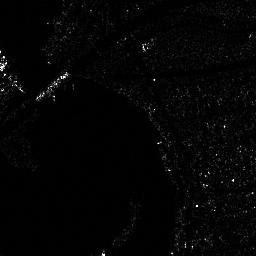ship: (34, 72, 73, 101)
